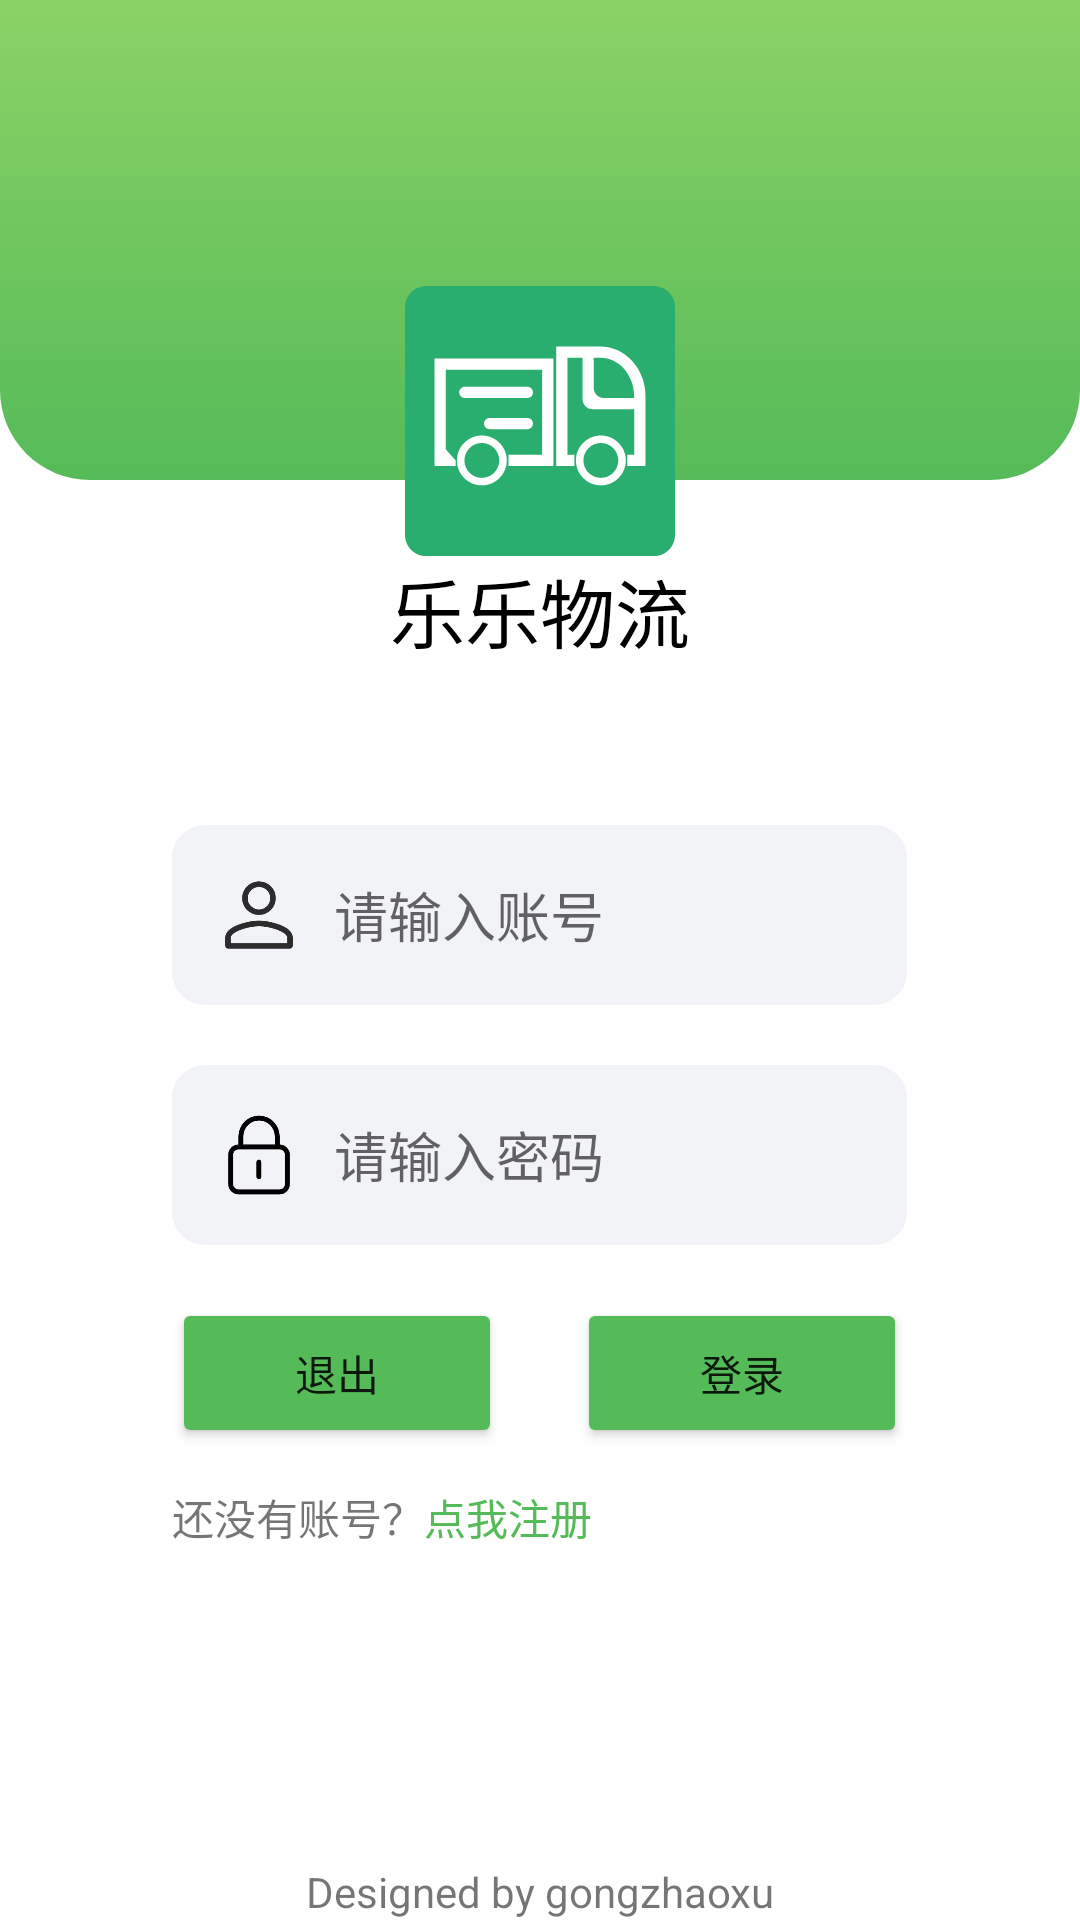

Named icons in this screenshot (1080 × 1920) and their centers, point (x, y):
password: point (259, 1155)
user: point (259, 915)
